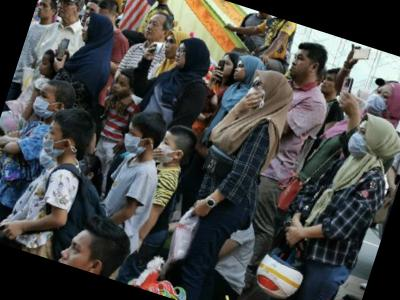mask_weared_incorrect: (38, 124, 70, 161)
with_mask: (344, 123, 374, 162), (29, 87, 59, 122), (364, 84, 393, 116), (120, 125, 146, 156), (153, 134, 177, 164), (245, 77, 265, 108)
without_mask: (56, 236, 97, 272), (288, 51, 313, 82), (110, 75, 132, 99), (143, 17, 164, 42), (160, 35, 179, 60), (172, 43, 190, 68), (320, 74, 339, 96), (35, 0, 54, 21), (35, 56, 53, 77), (78, 18, 93, 42), (218, 56, 235, 77), (80, 4, 98, 23), (231, 61, 247, 82)
